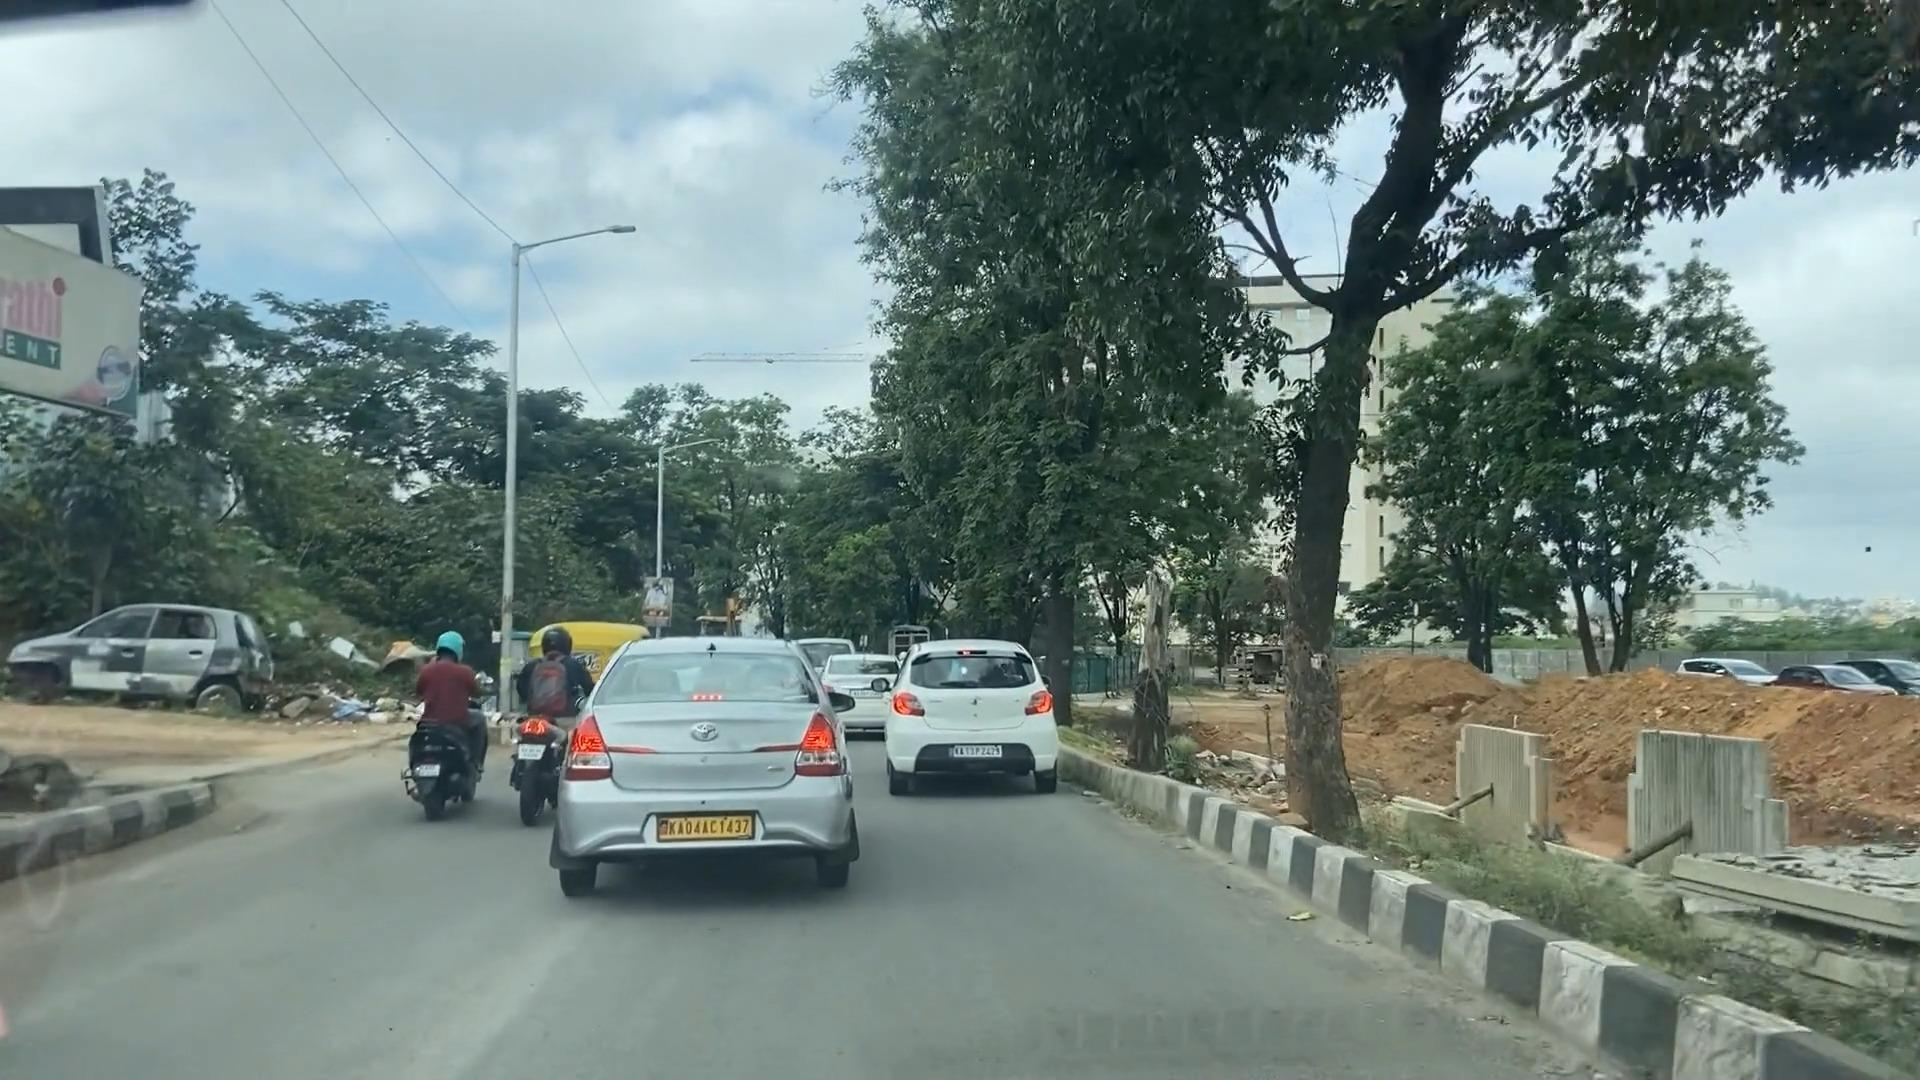LMV: (580, 684, 865, 887), (895, 640, 1056, 757), (402, 636, 477, 816)
